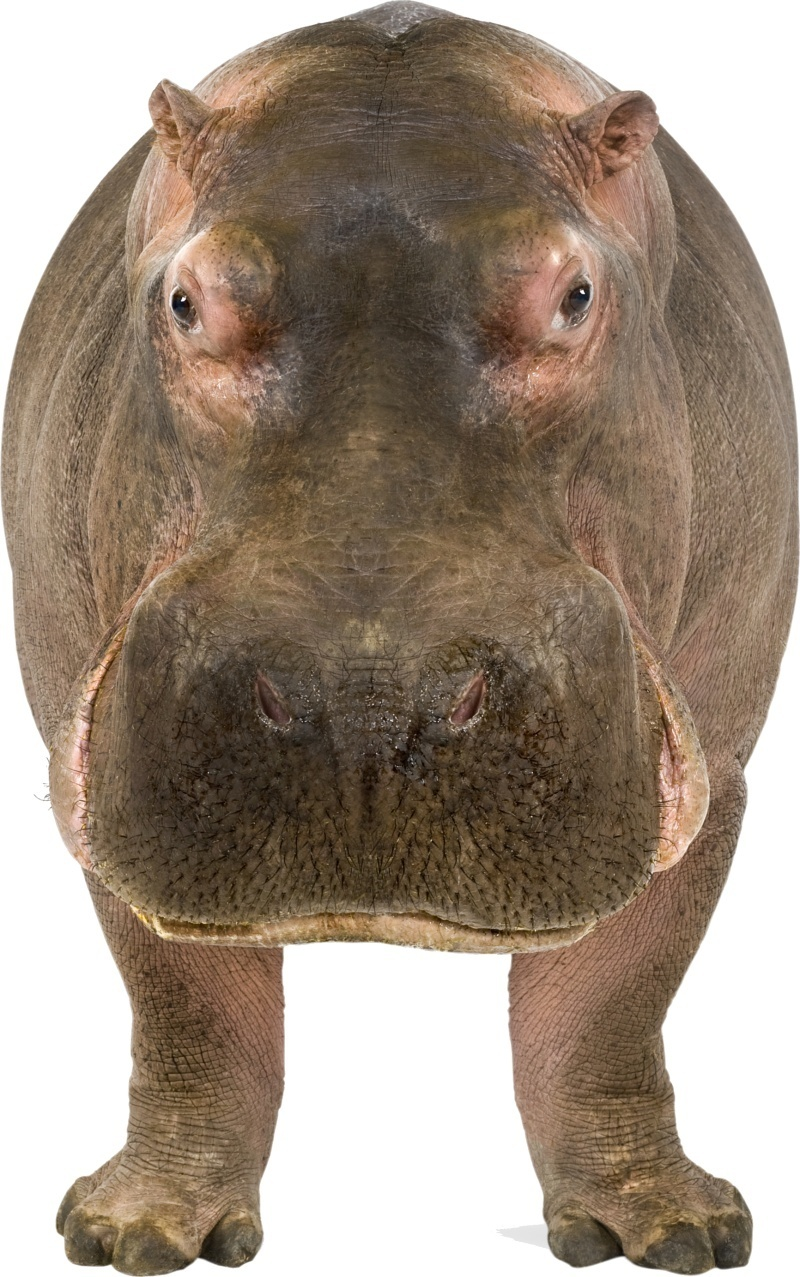hipopotamo: (1, 1, 800, 1277)
